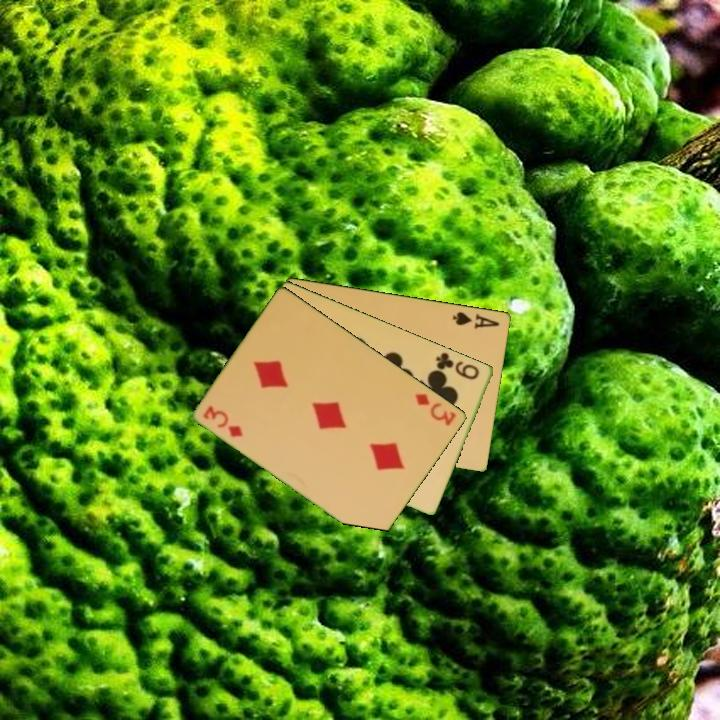3d: (412, 389, 459, 429), (200, 402, 246, 440)
9c: (432, 348, 482, 383)
As: (450, 308, 502, 331)
